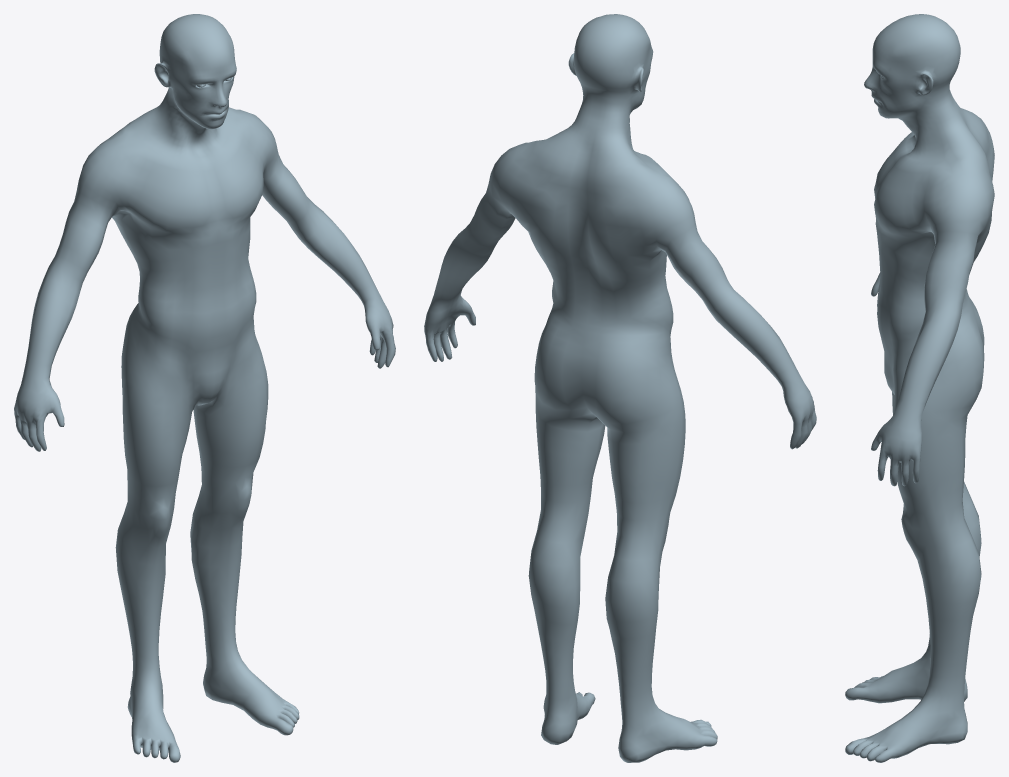
Rendered from male.glb.
3 views of the same model, side by side, from view 1: azimuth 30°, elevation 25°; view 2: azimuth 150°, elevation 25°; view 3: azimuth 270°, elevation 25° (orthographic). The views are drawn at different scales.
Parts seen in each view (by area): view 1: Object_0; view 2: Object_0; view 3: Object_0.
Part boxes in pixels (x1,y1,x2,y2): Object_0: [14, 14, 395, 762]; Object_0: [424, 14, 816, 762]; Object_0: [845, 14, 994, 762].
Size of the model in its own units: 1.08 by 1.96 by 0.3749.
